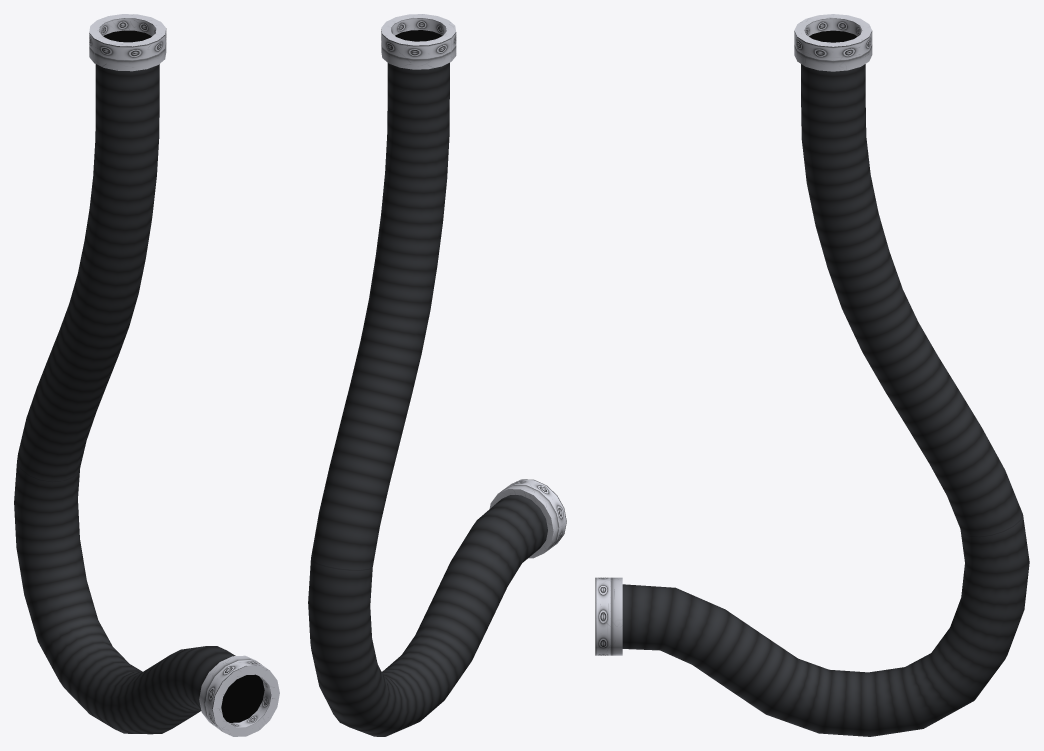
Rendered from Cable_Connection_01.FBX.
3 renders of one model, left to right at view 1: azimuth 30°, elevation 25°; view 2: azimuth 150°, elevation 25°; view 3: azimuth 270°, elevation 25°, orthographic. The views are drawn at different scales.
Parts seen in each view (by area): view 1: Cable_Connection_01; view 2: Cable_Connection_01; view 3: Cable_Connection_01.
Boxes of the visible parts, bbox=[...] form: Cable_Connection_01: bbox=[14, 14, 279, 736]; Cable_Connection_01: bbox=[308, 14, 566, 736]; Cable_Connection_01: bbox=[595, 14, 1029, 736].
Bounding box in the file's own units: 0.2408 × 2.4 × 1.34.
1 material, 1 textured.
